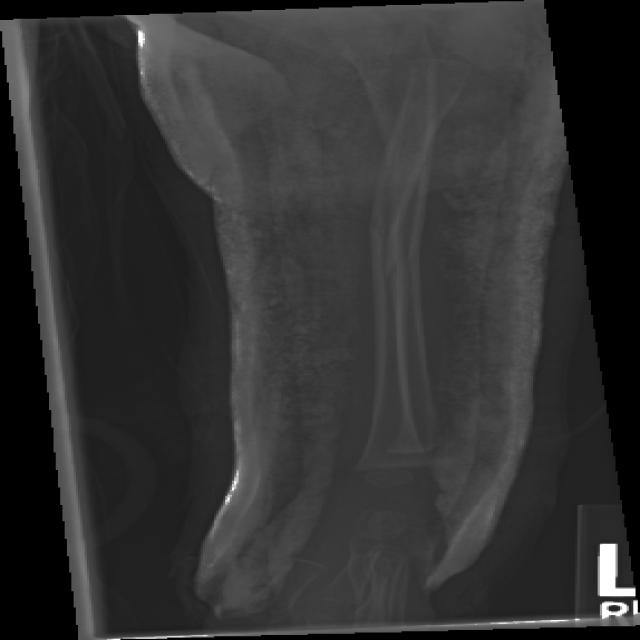forearm fracture: (351, 204, 400, 244)
